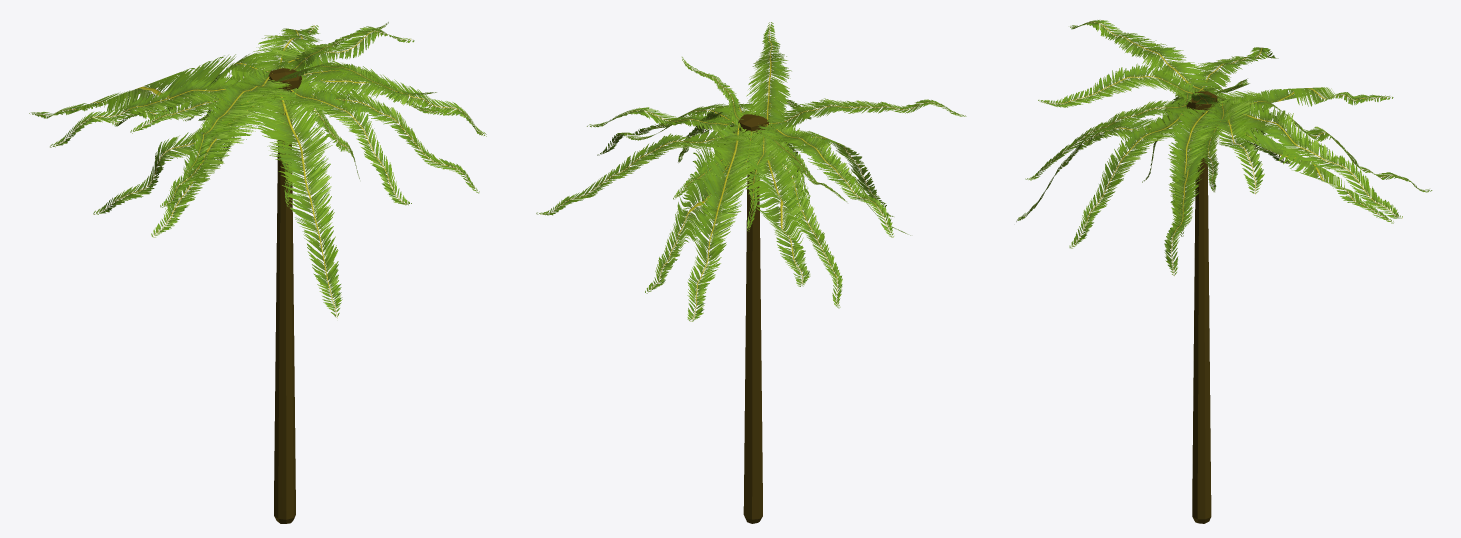
Rendered from Palm Tree 3.fbx.
The picture shows the model from 3 angles, left to right: view 1: azimuth 30°, elevation 25°; view 2: azimuth 150°, elevation 25°; view 3: azimuth 270°, elevation 25°; orthographic projection. The views are drawn at different scales.
Visible parts, largest first — view 1: Palm Tree 3; view 2: Palm Tree 3; view 3: Palm Tree 3.
Boxes of the visible parts, x1,y1,x2,y2 form: Palm Tree 3: (29, 22, 486, 523); Palm Tree 3: (536, 22, 966, 523); Palm Tree 3: (1016, 20, 1432, 523).
Size of the model in its own units: 325 by 377 by 325.
